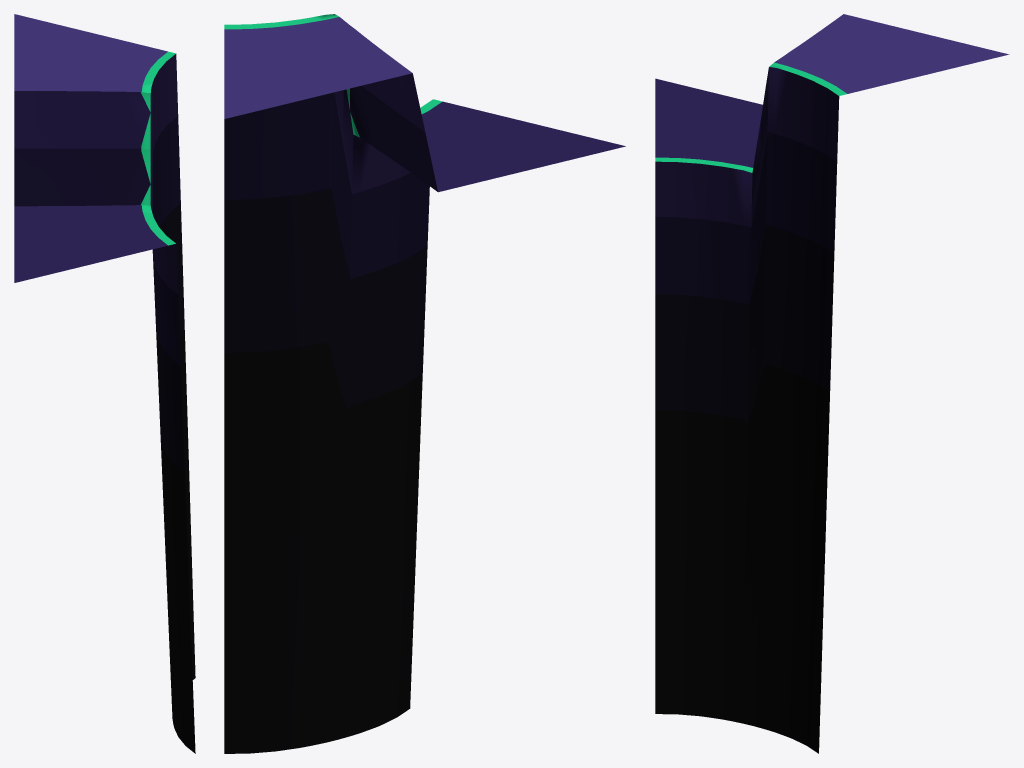
Rendered from MODULE_ALIEN_RIM_STEP_1_CLIFF.fbx.
The picture shows the model from 3 angles, left to right: view 1: azimuth 30°, elevation 25°; view 2: azimuth 150°, elevation 25°; view 3: azimuth 270°, elevation 25°; orthographic projection. The views are drawn at different scales.
Parts seen in each view (by area): view 1: MODULE_ALIEN_RIM_STEP_1_CLIFF__export; view 2: MODULE_ALIEN_RIM_STEP_1_CLIFF__export; view 3: MODULE_ALIEN_RIM_STEP_1_CLIFF__export.
Boxes of the visible parts, x1=… form: MODULE_ALIEN_RIM_STEP_1_CLIFF__export: x1=14, y1=14, x2=195, y2=753; MODULE_ALIEN_RIM_STEP_1_CLIFF__export: x1=224, y1=14, x2=625, y2=753; MODULE_ALIEN_RIM_STEP_1_CLIFF__export: x1=655, y1=14, x2=1009, y2=753.
Size of the model in its own units: 76.91 by 176 by 86.6.
